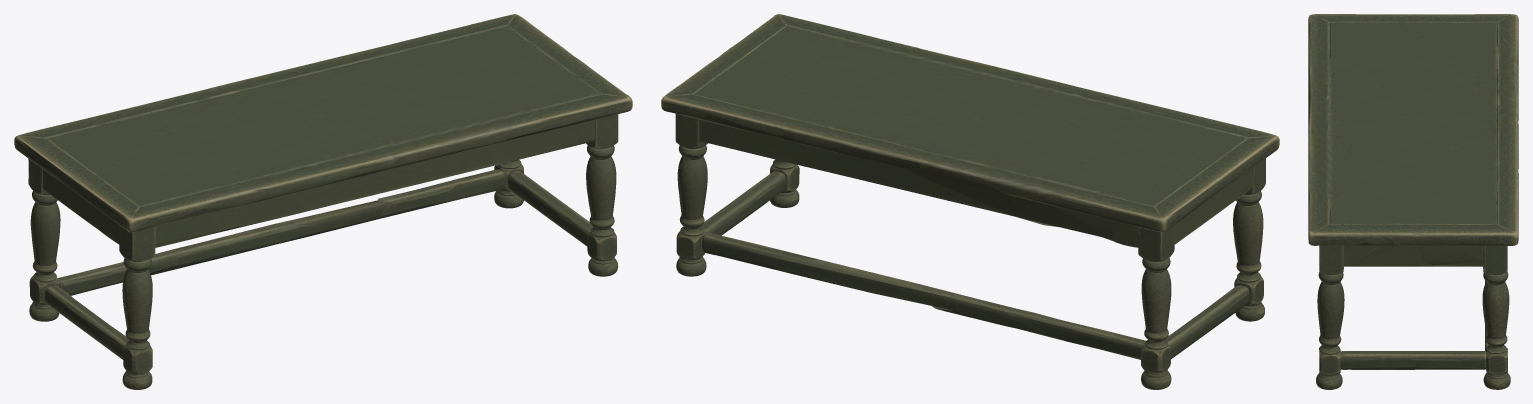
Rendered from reading_table.glb.
3 renders of one model, left to right at view 1: azimuth 30°, elevation 25°; view 2: azimuth 150°, elevation 25°; view 3: azimuth 270°, elevation 25°, orthographic. The views are drawn at different scales.
Visible parts, largest first — view 1: Mesh_0; view 2: Mesh_0; view 3: Mesh_0.
Part boxes in pixels (bbox=[...]): Mesh_0: bbox=[14, 14, 632, 389]; Mesh_0: bbox=[661, 14, 1279, 389]; Mesh_0: bbox=[1308, 14, 1518, 389].
Bounding box in the file's own units: 1.77 × 0.6 × 0.7131.
1 material, 1 textured.
